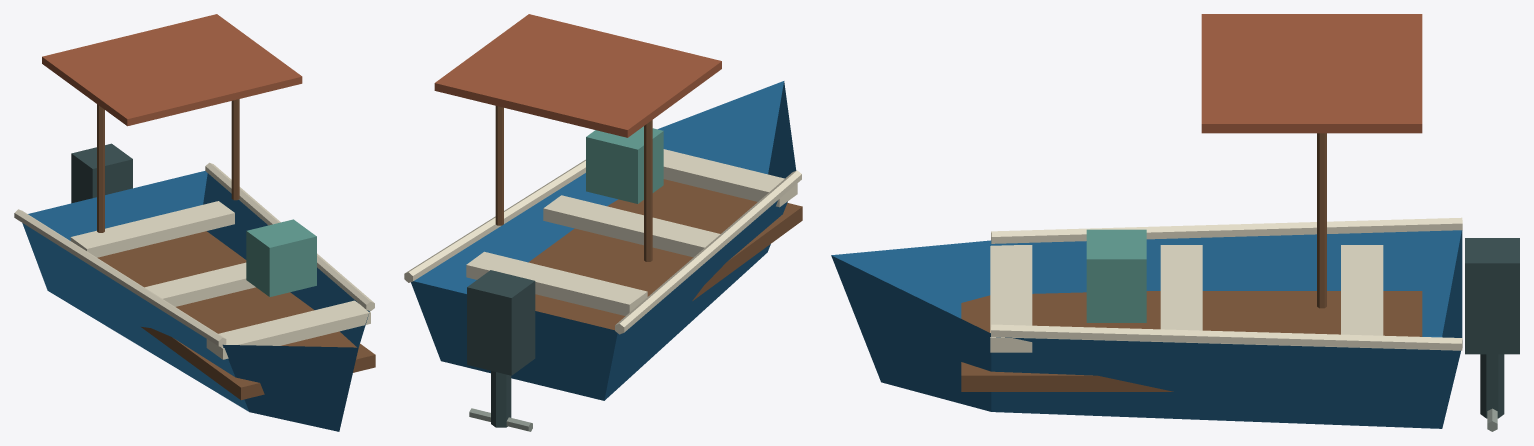
File: perahu-motor.glb
3 renders of one model, left to right at view 1: azimuth 30°, elevation 25°; view 2: azimuth 150°, elevation 25°; view 3: azimuth 270°, elevation 25°, orthographic. The views are drawn at different scales.
Parts seen in each view (by area): view 1: Perahu_Motor_Karang_Tirta; view 2: Perahu_Motor_Karang_Tirta; view 3: Perahu_Motor_Karang_Tirta.
Part boxes in pixels (bbox=[...]): Perahu_Motor_Karang_Tirta: bbox=[14, 14, 375, 431]; Perahu_Motor_Karang_Tirta: bbox=[404, 14, 802, 431]; Perahu_Motor_Karang_Tirta: bbox=[831, 14, 1519, 431].
Size of the model in its own units: 2.96 by 3.81 by 6.88.
